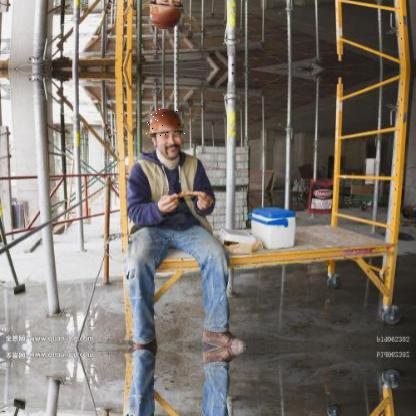safetyhelmet: (145, 110, 186, 138)
